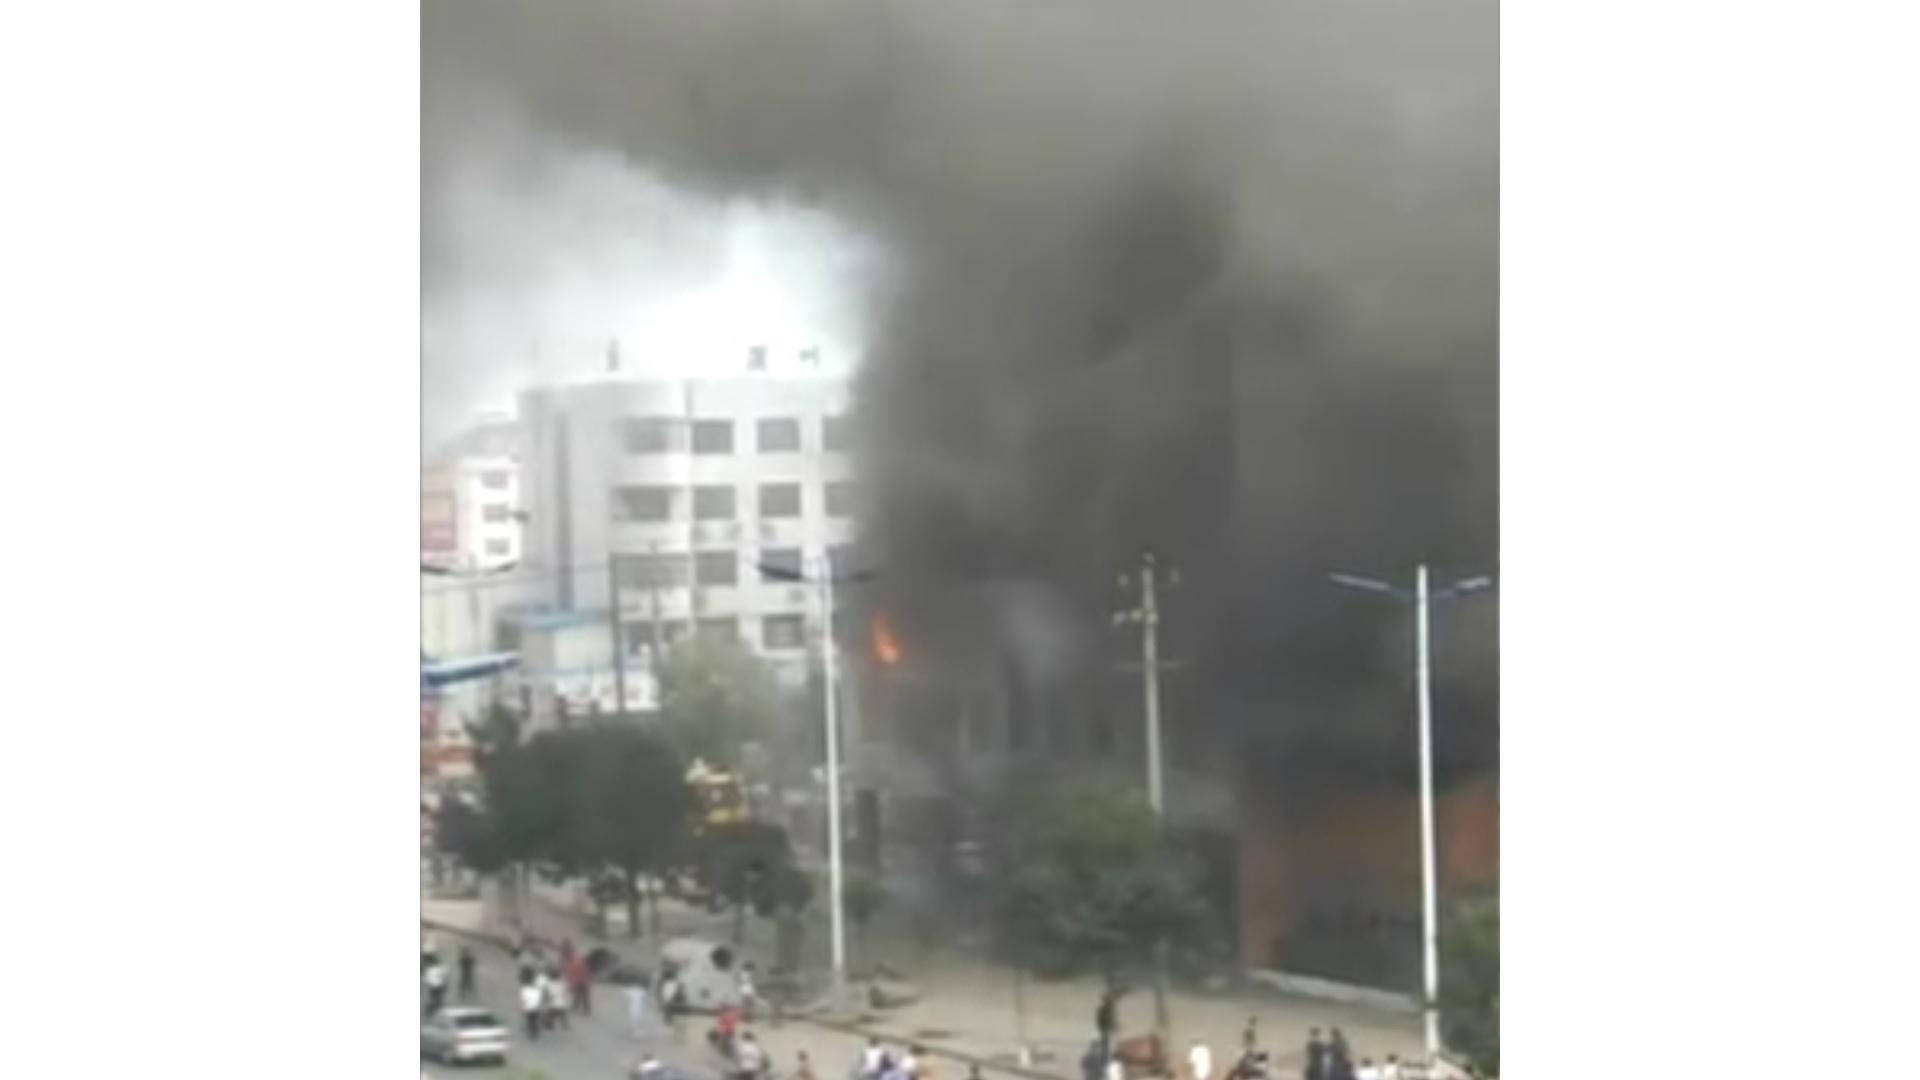fire: (868, 617, 907, 663)
